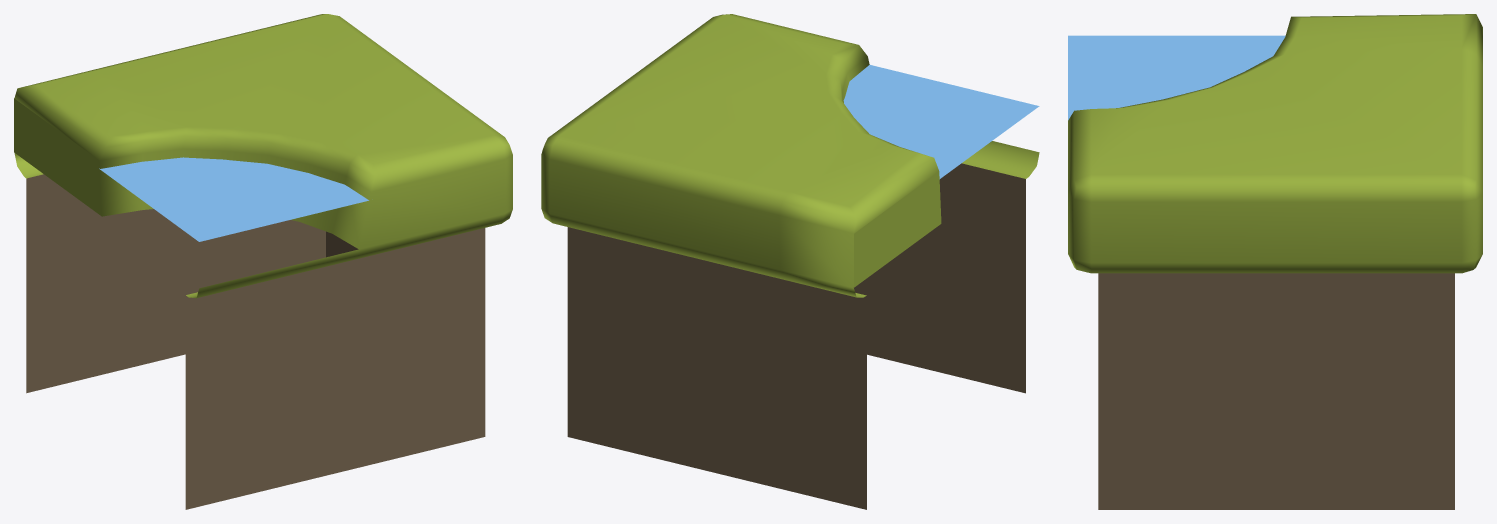
Rendered from BlocoAguaCurva.fbx.
3 views of the same model, side by side, from view 1: azimuth 30°, elevation 25°; view 2: azimuth 150°, elevation 25°; view 3: azimuth 270°, elevation 25° (orthographic). The views are drawn at different scales.
Visible parts, largest first — view 1: polySurface3; view 2: polySurface3; view 3: polySurface3.
Part boxes in pixels (box(x1,y1,x2,y2)): polySurface3: box(14, 14, 512, 509); polySurface3: box(541, 14, 1039, 509); polySurface3: box(1068, 14, 1482, 509).
Bounding box in the file's own units: 240 × 216 × 240.
